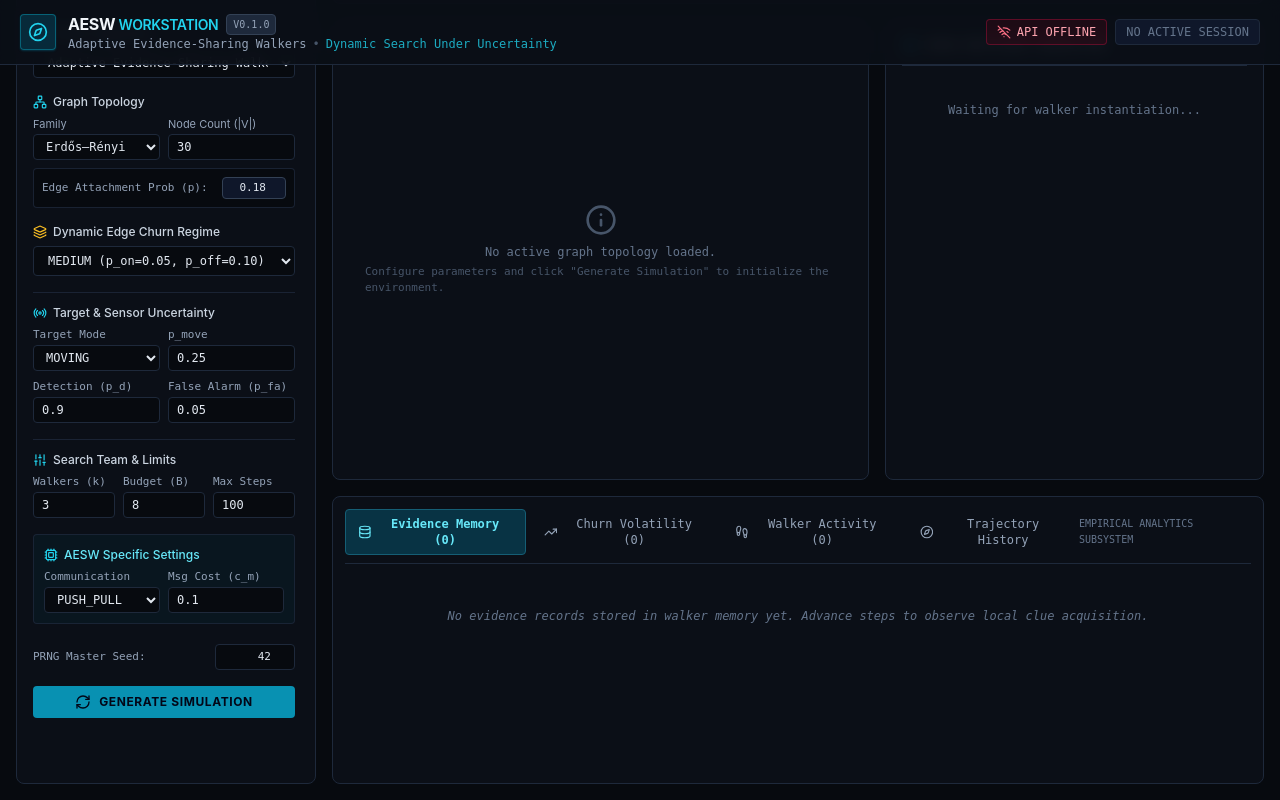
it: AESW Research Workstation Frontend › 5. Metrics strip displays backend values accurately
(page scrolled)
Click the button "Generate Simulation" at [164, 702], box [33,686,295,718]
(page scrolled)
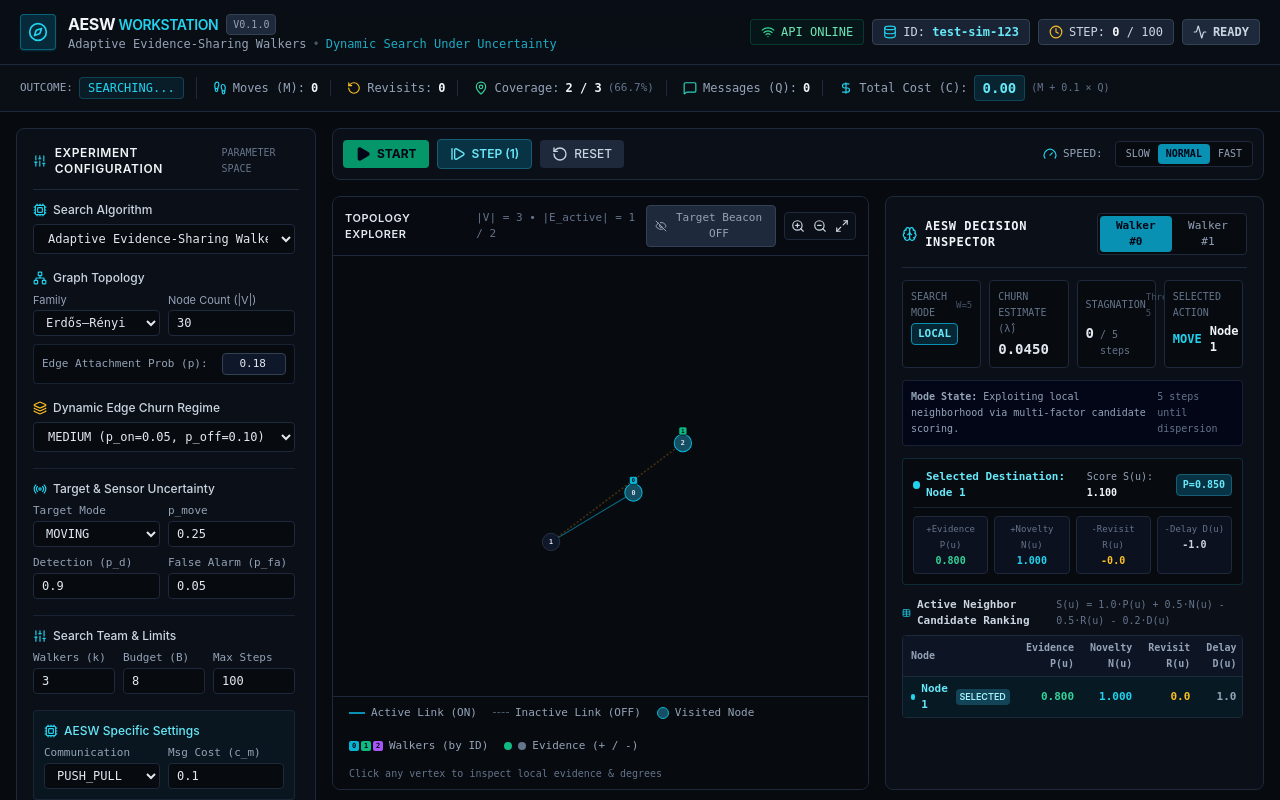
expect the text "Moves (M):" is shown: met, box [233,80,305,96]
expect the text "Coverage:" is shown: met, box [494,80,559,96]
expect the text "Total Cost (C):" is shown: met, box [859,80,968,96]
